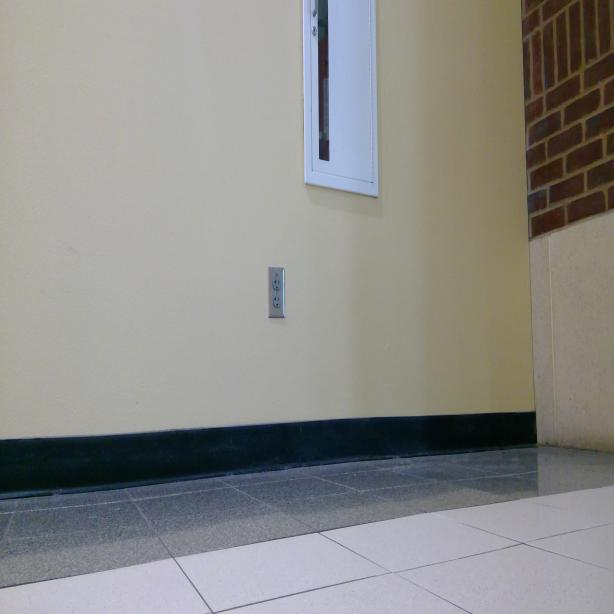typeb: (274, 277, 282, 291), (273, 294, 281, 307)
